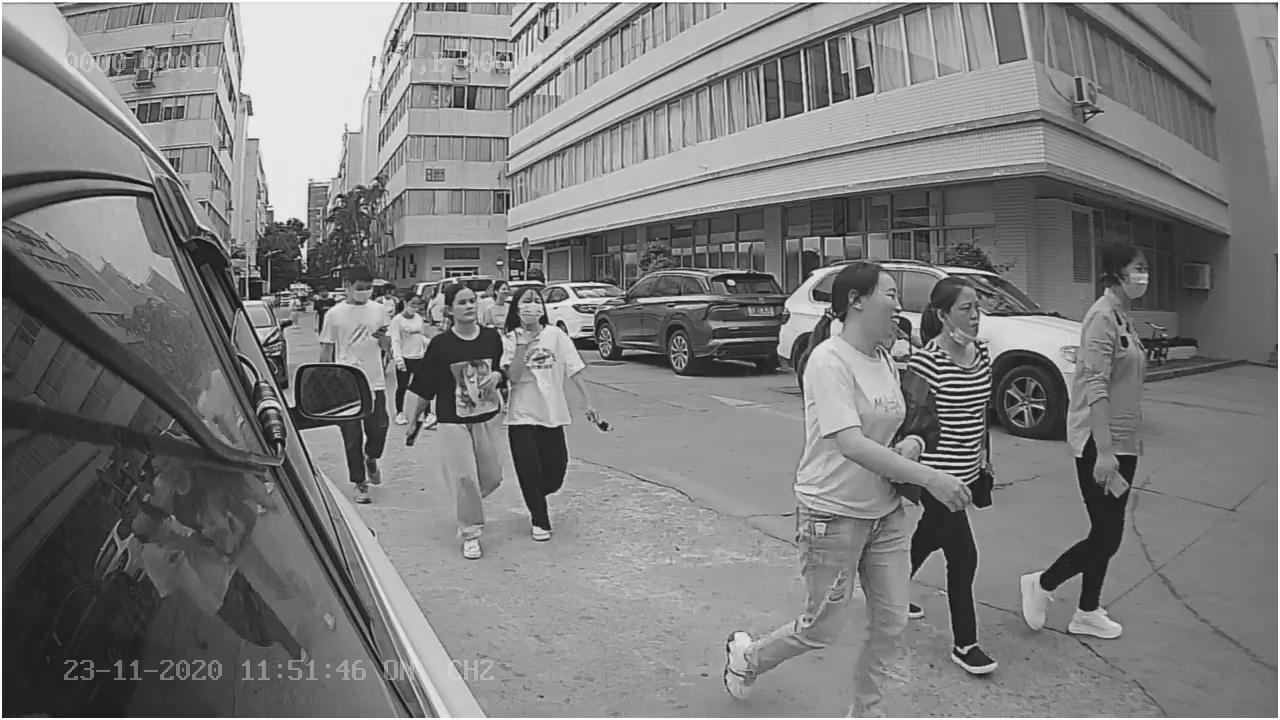person: (1012, 238, 1167, 639), (409, 282, 509, 559)
